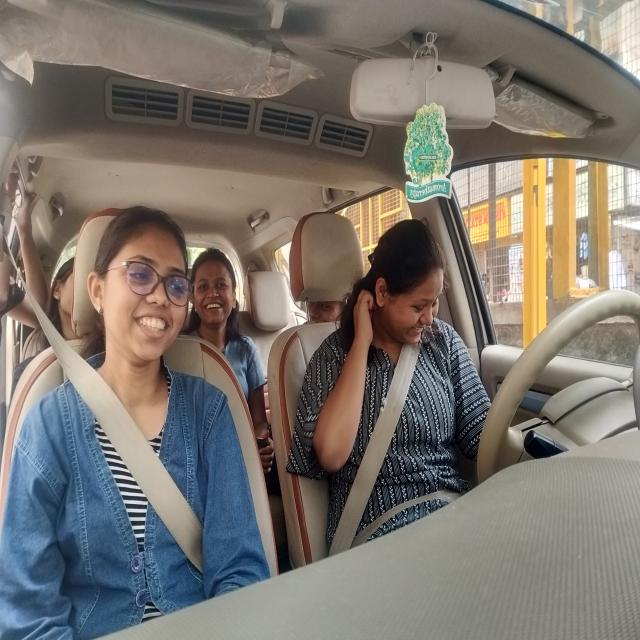drowsy: (369, 217, 445, 346)
person: (83, 205, 193, 362), (195, 248, 242, 332), (51, 258, 82, 322)
